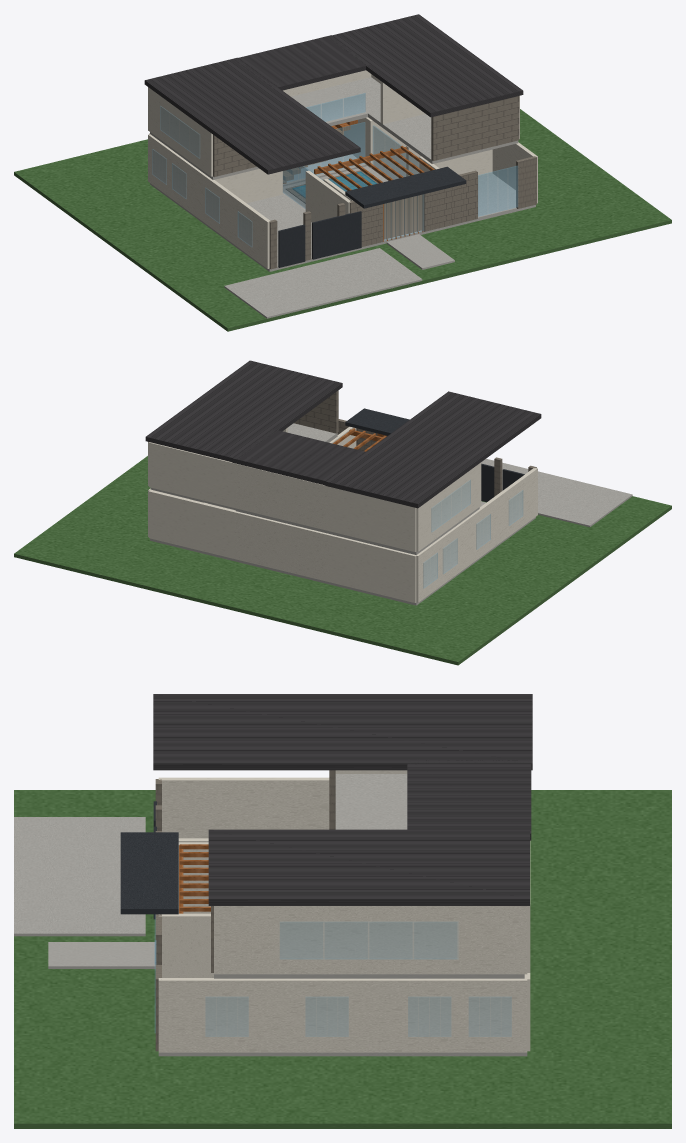
File: Aureline_Courtyard_House.dae
3 renders of one model, top to bottom at view 1: azimuth 30°, elevation 25°; view 2: azimuth 150°, elevation 25°; view 3: azimuth 270°, elevation 25°, orthographic. The views are drawn at different scales.
Parts seen in each view (by area): view 1: Landscape_Site_Pad, Roof_Left_Main, Roof_Right_Main, Concrete_Driveway, Exterior_Wall_Left_West, Roof_Rear_Bridge, Exterior_Wall_Upper_Right_Front, Upper_Slab_Right_Wing, Exterior_Wall_Upper_West, Roof_Entry_Canopy, Ground_Slab_Right_Wing, Ground_Slab_Left_Wing (+27 smaller); view 2: Landscape_Site_Pad, Roof_Left_Main, Roof_Right_Main, Exterior_Wall_Left_West, Exterior_Wall_Rear_North, Exterior_Wall_Upper_Rear, Exterior_Wall_Left_Rear, Exterior_Wall_Right_Rear, Roof_Rear_Bridge, Exterior_Wall_Upper_Left_Rear, Exterior_Wall_Upper_Right_Rear, Concrete_Driveway (+8 smaller); view 3: Landscape_Site_Pad, Roof_Left_Main, Exterior_Wall_Right_East, Roof_Right_Main, Exterior_Wall_Upper_East, Concrete_Driveway, Exterior_Wall_Left_West, Roof_Rear_Bridge, Glass_Upper_East_Band, Roof_Entry_Canopy, Upper_Slab_Left_Suite, Courtyard_Wall_Right_A (+8 smaller).
Boxes of the visible parts, <box> form: Landscape_Site_Pad: <box>14,109,671,331</box>; Roof_Left_Main: <box>144,57,360,174</box>; Roof_Right_Main: <box>326,14,523,117</box>; Concrete_Driveway: <box>224,248,422,318</box>; Exterior_Wall_Left_West: <box>148,134,270,268</box>; Roof_Rear_Bridge: <box>233,35,371,90</box>; Exterior_Wall_Upper_Right_Front: <box>431,96,519,160</box>; Upper_Slab_Right_Wing: <box>332,77,518,163</box>; Exterior_Wall_Upper_West: <box>148,87,212,176</box>; Roof_Entry_Canopy: <box>345,166,466,208</box>; Ground_Slab_Right_Wing: <box>371,159,535,227</box>; Ground_Slab_Left_Wing: <box>150,183,355,271</box>; Landscape_Site_Pad: <box>14,456,671,665</box>; Roof_Left_Main: <box>325,391,541,508</box>; Roof_Right_Main: <box>145,360,342,461</box>; Exterior_Wall_Left_West: <box>415,468,537,602</box>; Exterior_Wall_Rear_North: <box>234,511,329,582</box>; Exterior_Wall_Upper_Rear: <box>234,463,329,531</box>; Exterior_Wall_Left_Rear: <box>329,534,416,602</box>; Exterior_Wall_Right_Rear: <box>149,490,235,558</box>; Roof_Rear_Bridge: <box>232,429,368,485</box>; Exterior_Wall_Upper_Left_Rear: <box>329,487,416,551</box>; Exterior_Wall_Upper_Right_Rear: <box>149,442,234,507</box>; Concrete_Driveway: <box>481,458,632,527</box>; Landscape_Site_Pad: <box>14,790,671,1128</box>; Roof_Left_Main: <box>153,694,532,770</box>; Exterior_Wall_Right_East: <box>158,978,527,1052</box>; Roof_Right_Main: <box>208,829,529,905</box>; Exterior_Wall_Upper_East: <box>214,906,527,974</box>; Concrete_Driveway: <box>14,817,145,936</box>; Exterior_Wall_Left_West: <box>158,777,329,838</box>; Roof_Rear_Bridge: <box>407,759,531,840</box>; Glass_Upper_East_Band: <box>280,922,458,959</box>; Roof_Entry_Canopy: <box>120,832,178,914</box>; Upper_Slab_Left_Suite: <box>335,774,407,829</box>; Courtyard_Wall_Right_A: <box>159,913,213,977</box>.
Size of the model in its own units: 30 by 25 by 6.93.
Materials: 9 (9 with a texture image).
